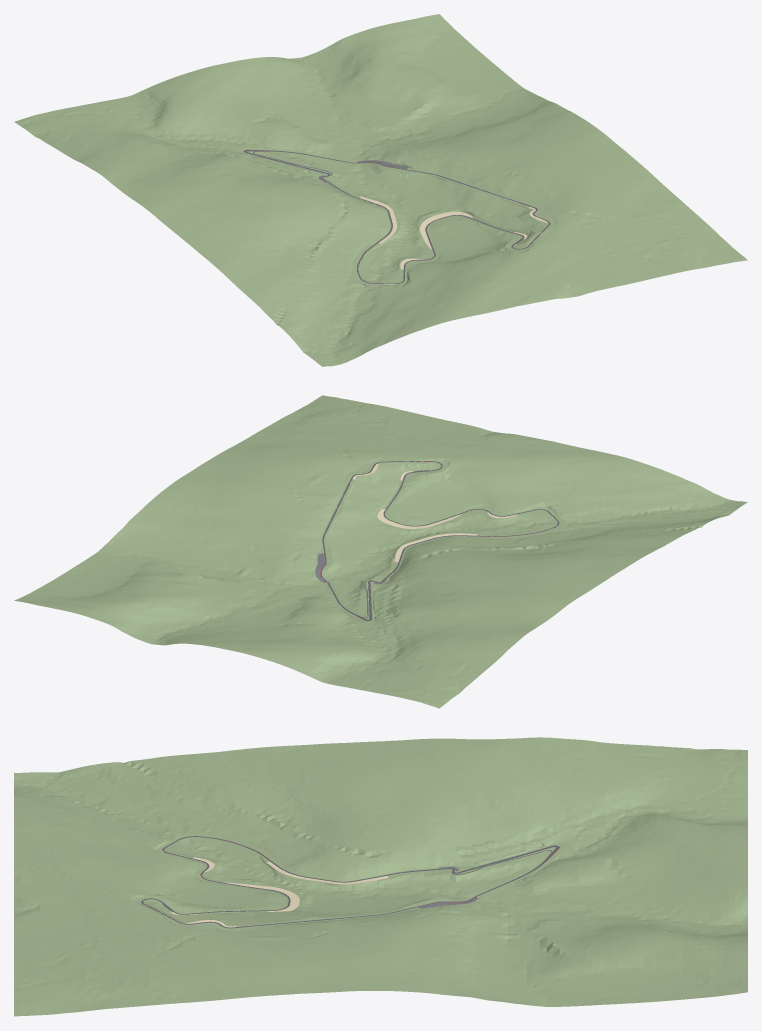
The model's file is spa_neutral.glb.
3 views of the same model, one above another, from view 1: azimuth 30°, elevation 25°; view 2: azimuth 150°, elevation 25°; view 3: azimuth 270°, elevation 25° (orthographic). The views are drawn at different scales.
Parts seen in each view (by area): view 1: terrain, road, gravel; view 2: terrain, road, gravel; view 3: terrain, road, gravel, barriers.
Boxes of the visible parts, x1,y1,x2,y2 form: terrain: (14, 14, 747, 366); road: (243, 150, 550, 283); gravel: (359, 196, 547, 269); terrain: (14, 395, 747, 708); road: (320, 461, 559, 621); gravel: (353, 463, 517, 562); terrain: (14, 737, 747, 1016); road: (141, 836, 559, 928); gravel: (171, 857, 388, 927); barriers: (138, 848, 562, 931).
Size of the model in its own units: 2880 by 206 by 3616.
